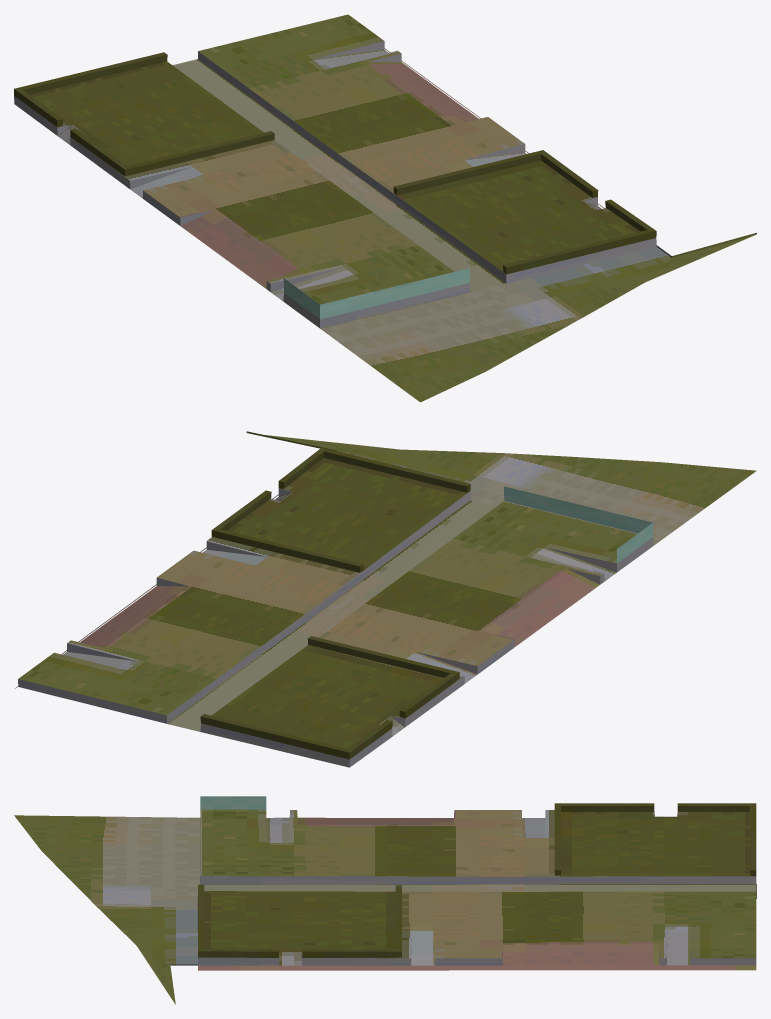
Rendered from lodxjeffers09.obj.
3 views of the same model, one above another, from view 1: azimuth 30°, elevation 25°; view 2: azimuth 150°, elevation 25°; view 3: azimuth 270°, elevation 25° (orthographic). The views are drawn at different scales.
Parts seen in each view (by area): view 1: LODxJeffers09; view 2: LODxJeffers09; view 3: LODxJeffers09.
Part boxes in pixels (x1=…): LODxJeffers09: x1=14, y1=14, x2=756, y2=402; LODxJeffers09: x1=15, y1=431, x2=756, y2=767; LODxJeffers09: x1=14, y1=796, x2=756, y2=1004.
Size of the model in its own units: 80.47 by 4.79 by 134.
3 materials, 3 textured.
